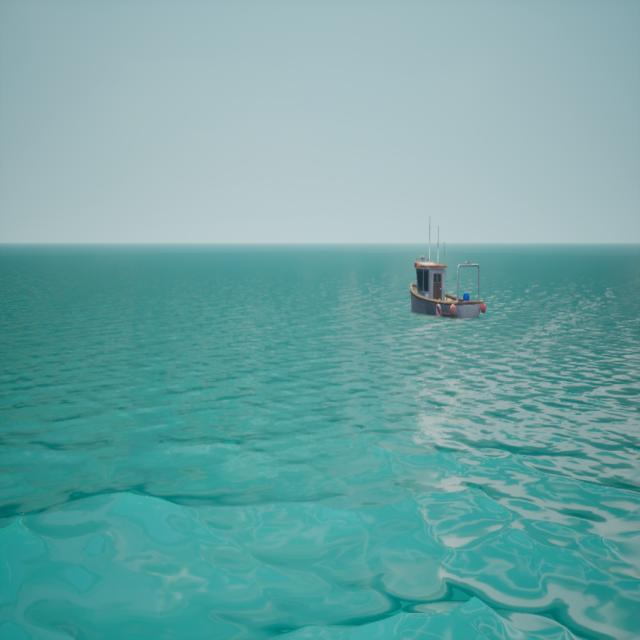ship: (411, 220, 486, 322)
